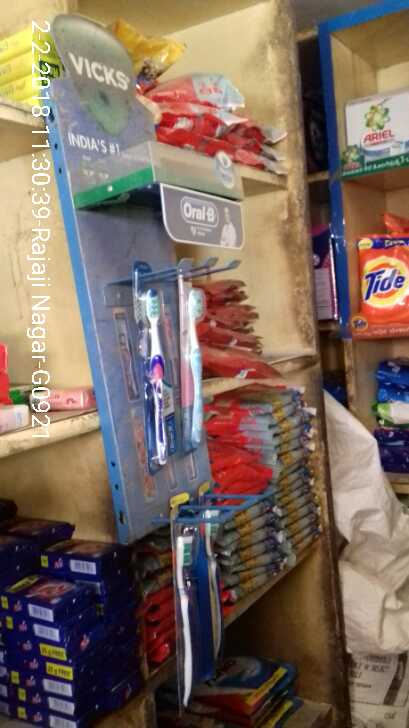home: (355, 230, 409, 322), (346, 90, 408, 157)
pharmacy: (133, 258, 171, 465), (176, 256, 208, 451), (194, 480, 224, 675), (169, 491, 194, 708)
